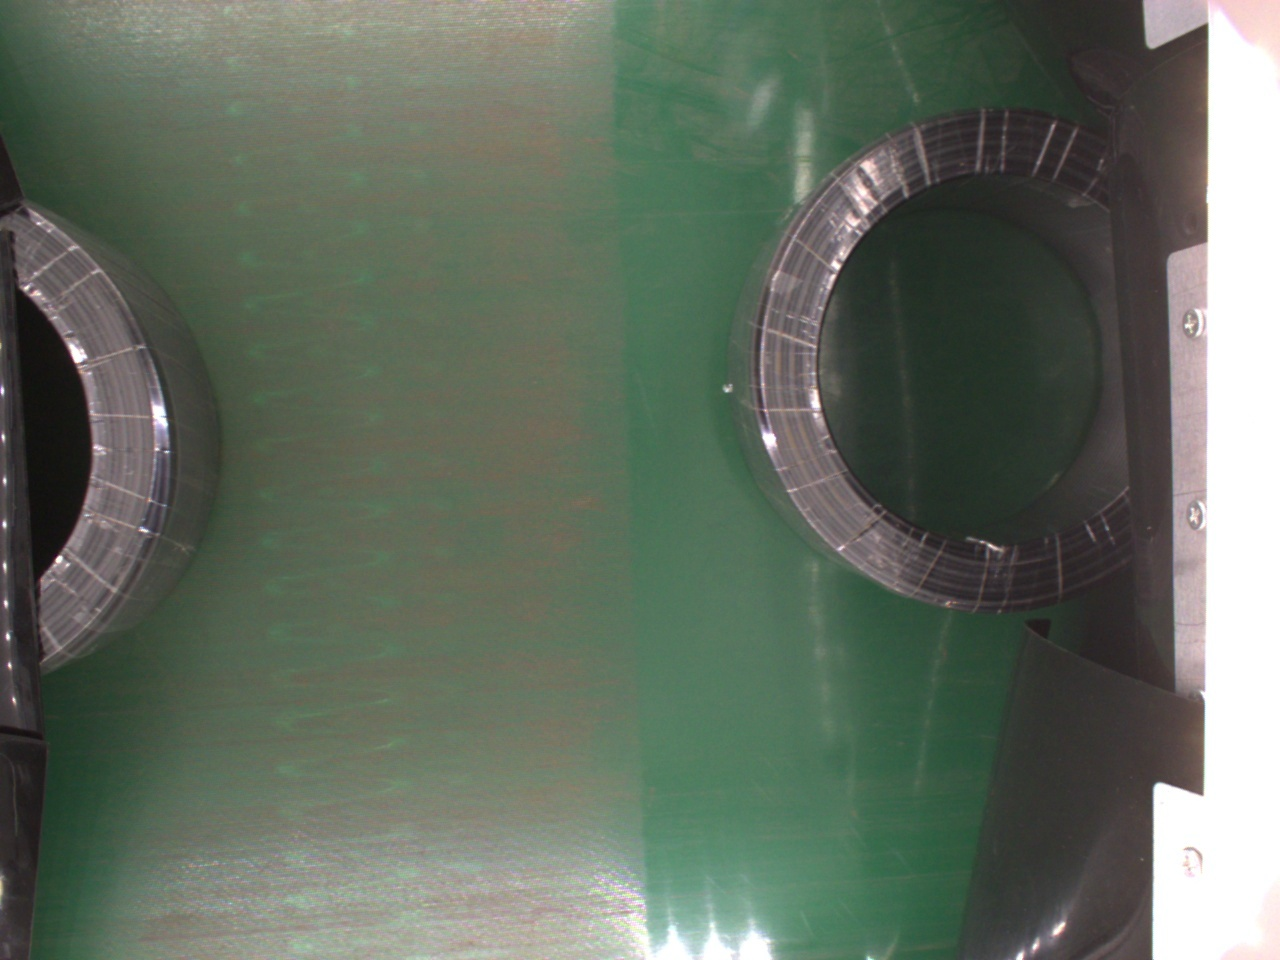black: (727, 110, 1154, 619), (8, 195, 224, 680)
